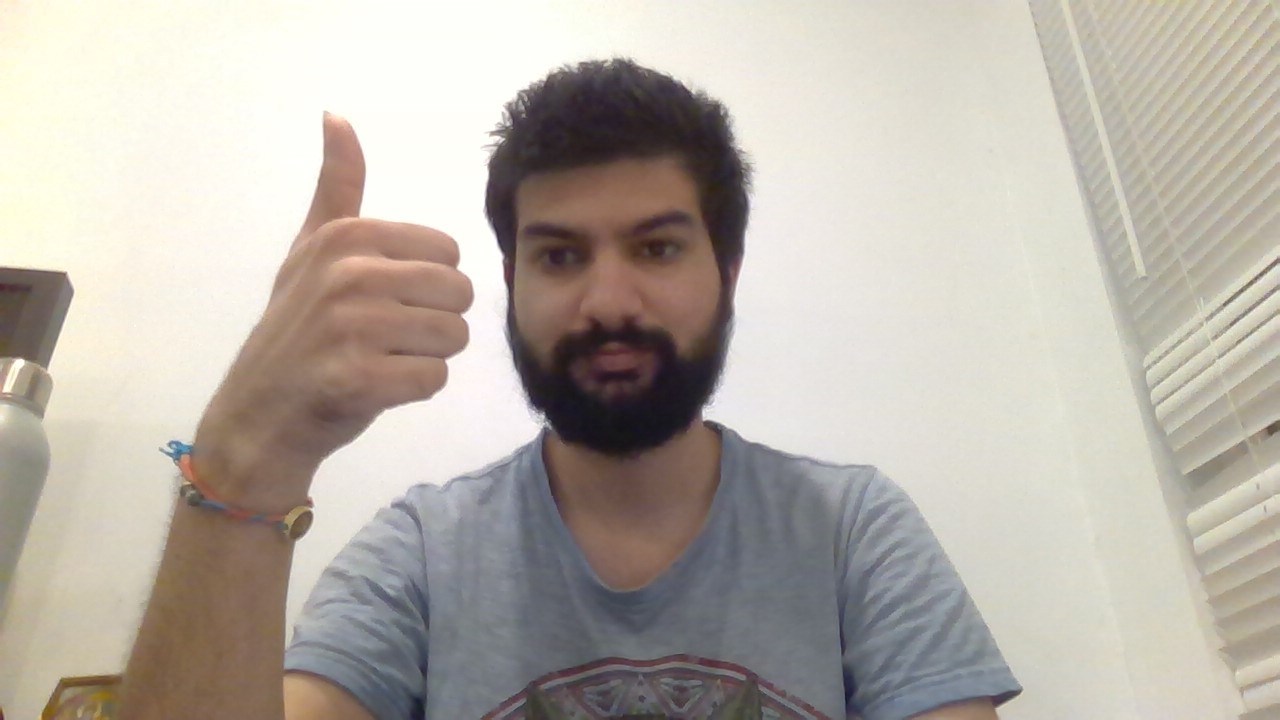up: (255, 101, 490, 428)
